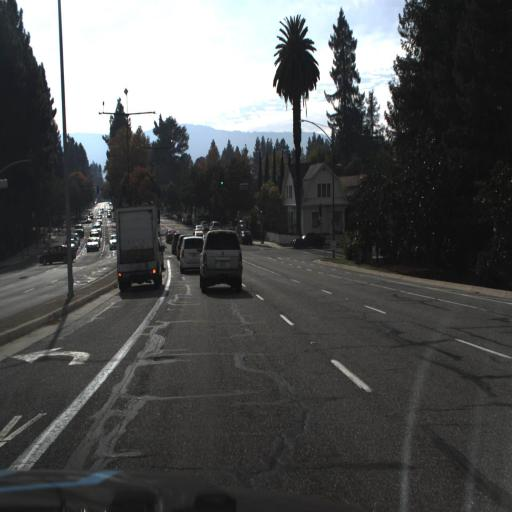car: (198, 229, 242, 296), (177, 233, 201, 277), (36, 244, 77, 267), (290, 228, 325, 253), (83, 235, 98, 255), (238, 228, 252, 247), (169, 228, 179, 253), (109, 232, 118, 251), (209, 218, 221, 232), (199, 218, 209, 230)
trafficLight-Green: (218, 168, 226, 193)
truck: (114, 202, 163, 295)
